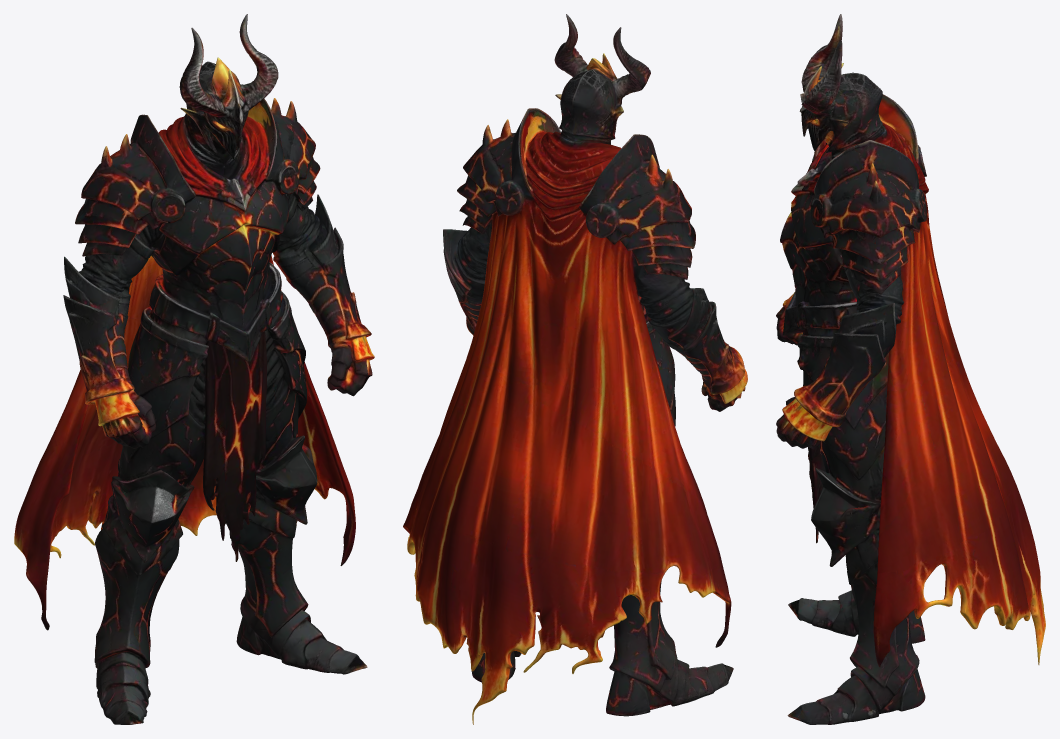
Rendered from hero_ember.glb.
3 renders of one model, left to right at view 1: azimuth 30°, elevation 25°; view 2: azimuth 150°, elevation 25°; view 3: azimuth 270°, elevation 25°, orthographic. The views are drawn at different scales.
Size of the model in its own units: 0.9834 by 1.9 by 0.7249.
Materials: 1 (1 with a texture image).
